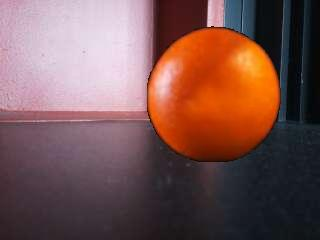Orange: (145, 27, 282, 164)
